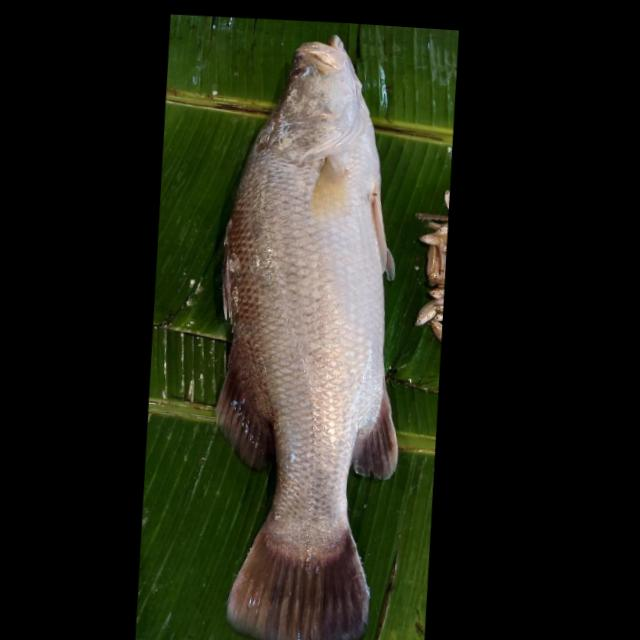Seabass: (186, 24, 436, 640)
